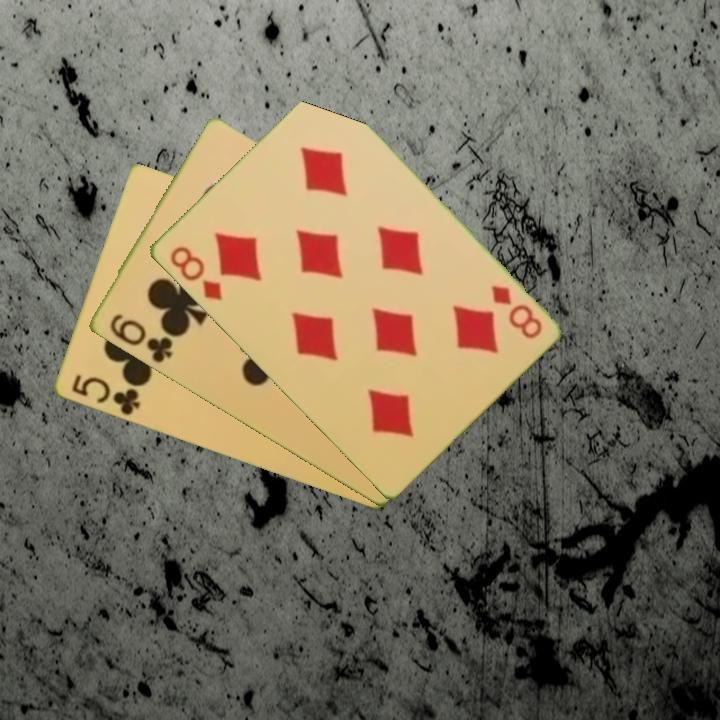5c: (67, 371, 143, 418)
6c: (105, 310, 175, 367)
8d: (165, 242, 225, 304), (487, 282, 545, 342)
